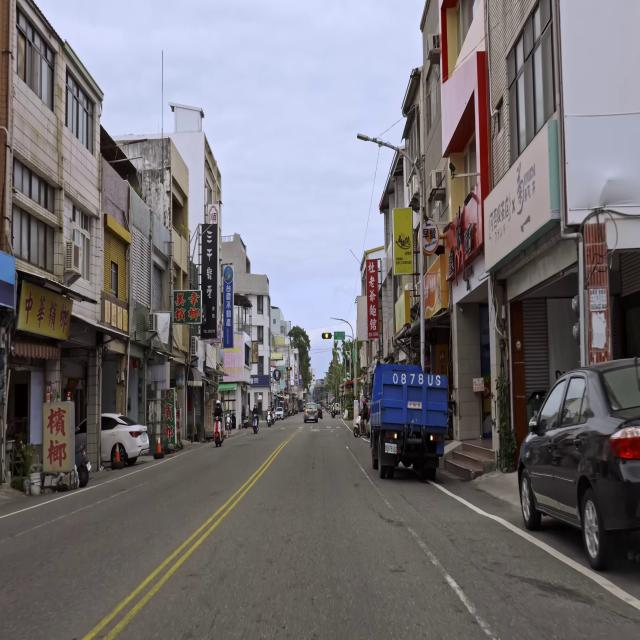yellow light: (322, 332, 332, 340), (286, 366, 292, 371)
